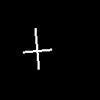single_crochet: (23, 28, 51, 68)
